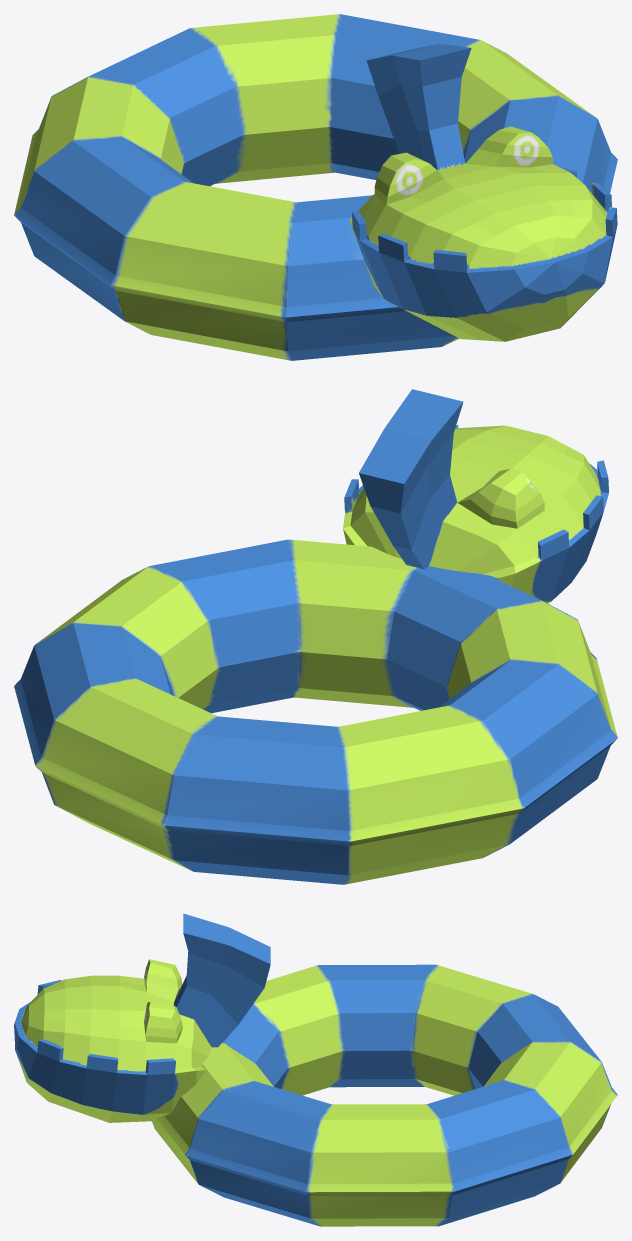
Rendered from alligator_floaty.fbx.
3 renders of one model, top to bottom at view 1: azimuth 30°, elevation 25°; view 2: azimuth 150°, elevation 25°; view 3: azimuth 270°, elevation 25°, orthographic. The views are drawn at different scales.
Visible parts, largest first — view 1: plain_floaty2, pSphere1; view 2: plain_floaty2, pSphere1; view 3: plain_floaty2, pSphere1.
Boxes of the visible parts, x1,y1,x2,y2 form: plain_floaty2: (14,14,617,360); pSphere1: (349,44,617,341); plain_floaty2: (14,539,617,884); pSphere1: (343,389,608,603); plain_floaty2: (152,964,617,1226); pSphere1: (14,913,270,1122).
Size of the model in its own units: 55.58 by 30.52 by 73.5.
Materials: 1 (1 with a texture image).
